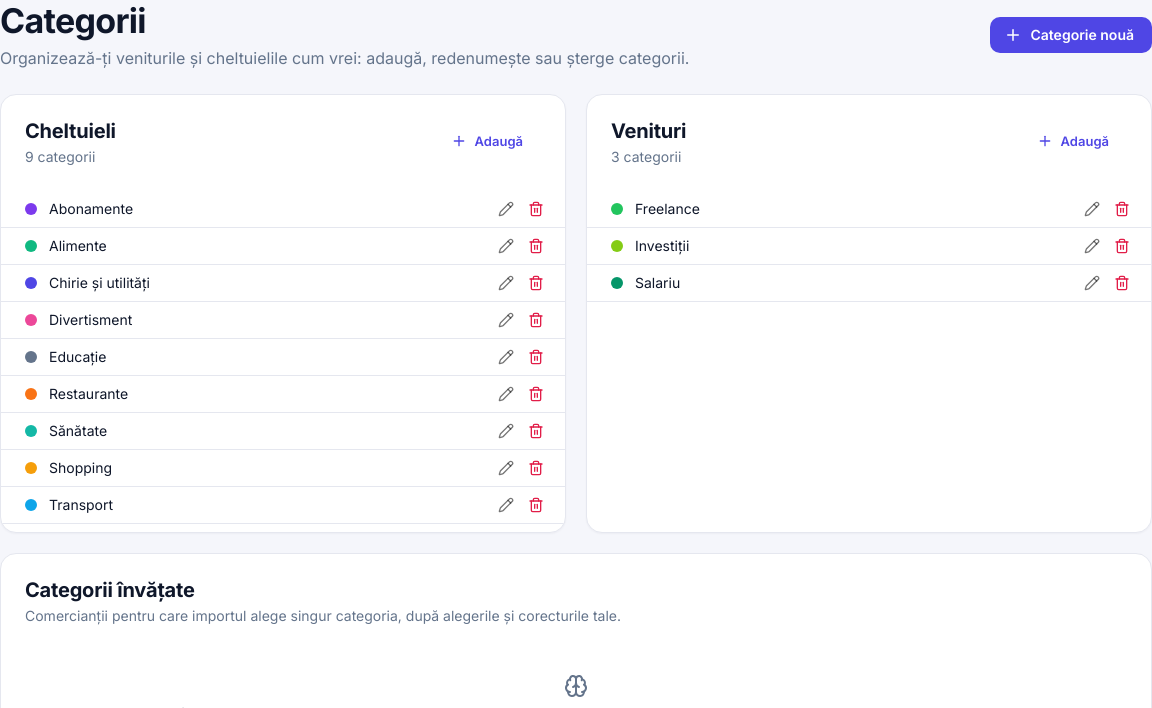
CategoriesPage › mută tranzacțiile în altă categorie înainte de ștergere
Click the button named "Șterge Abonamente". click: (536, 209)
box: [523, 196, 549, 222]
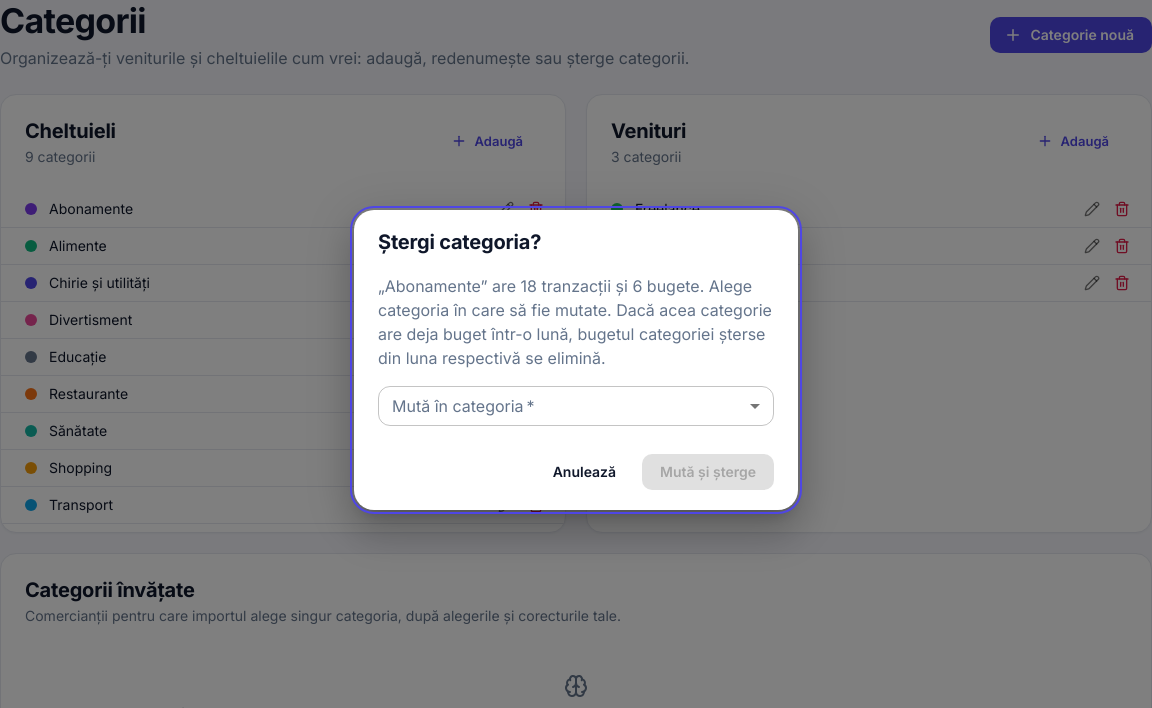
Now the text "Alege" is shown, box [378, 276, 772, 368]
Now the button "Mută și șterge" is disabled, box [642, 454, 774, 490]
Click the dropdown named "Mută în categoria". click: (576, 406)
box: [378, 386, 774, 426]
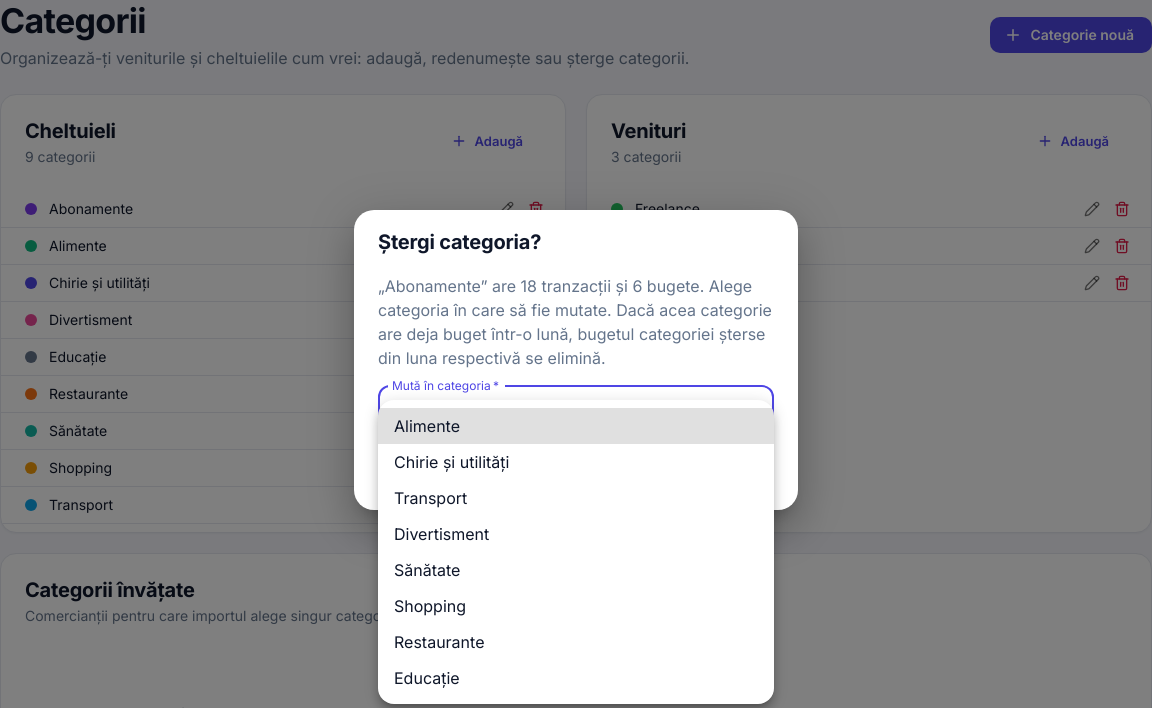
Click the option "Divertisment". click: (442, 534)
box: [394, 524, 489, 544]
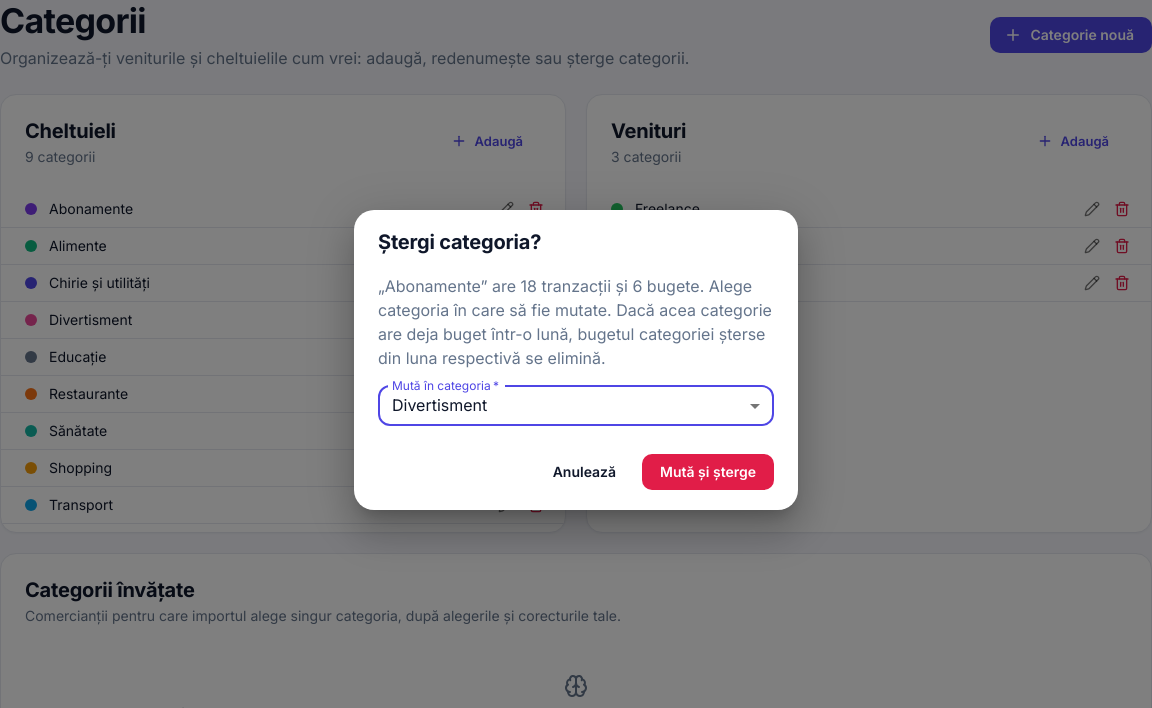
Click the button "Mută și șterge". click: (708, 472)
box: [642, 454, 774, 490]
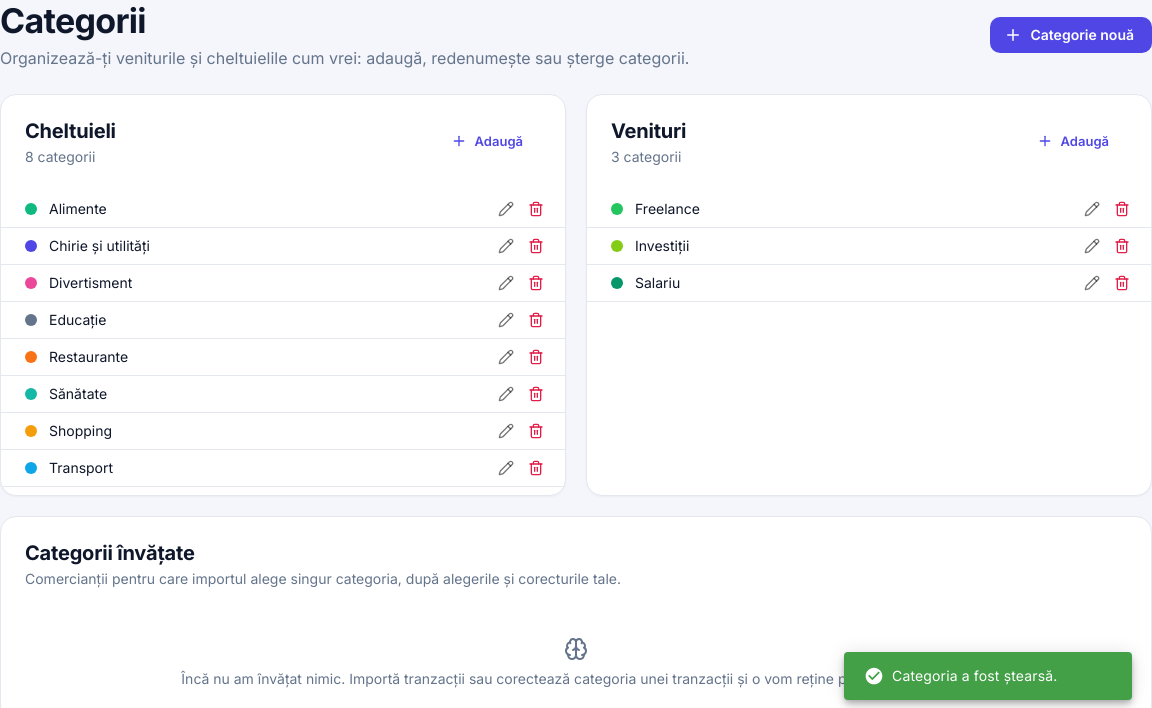
Now the text "Abonamente" is gone
